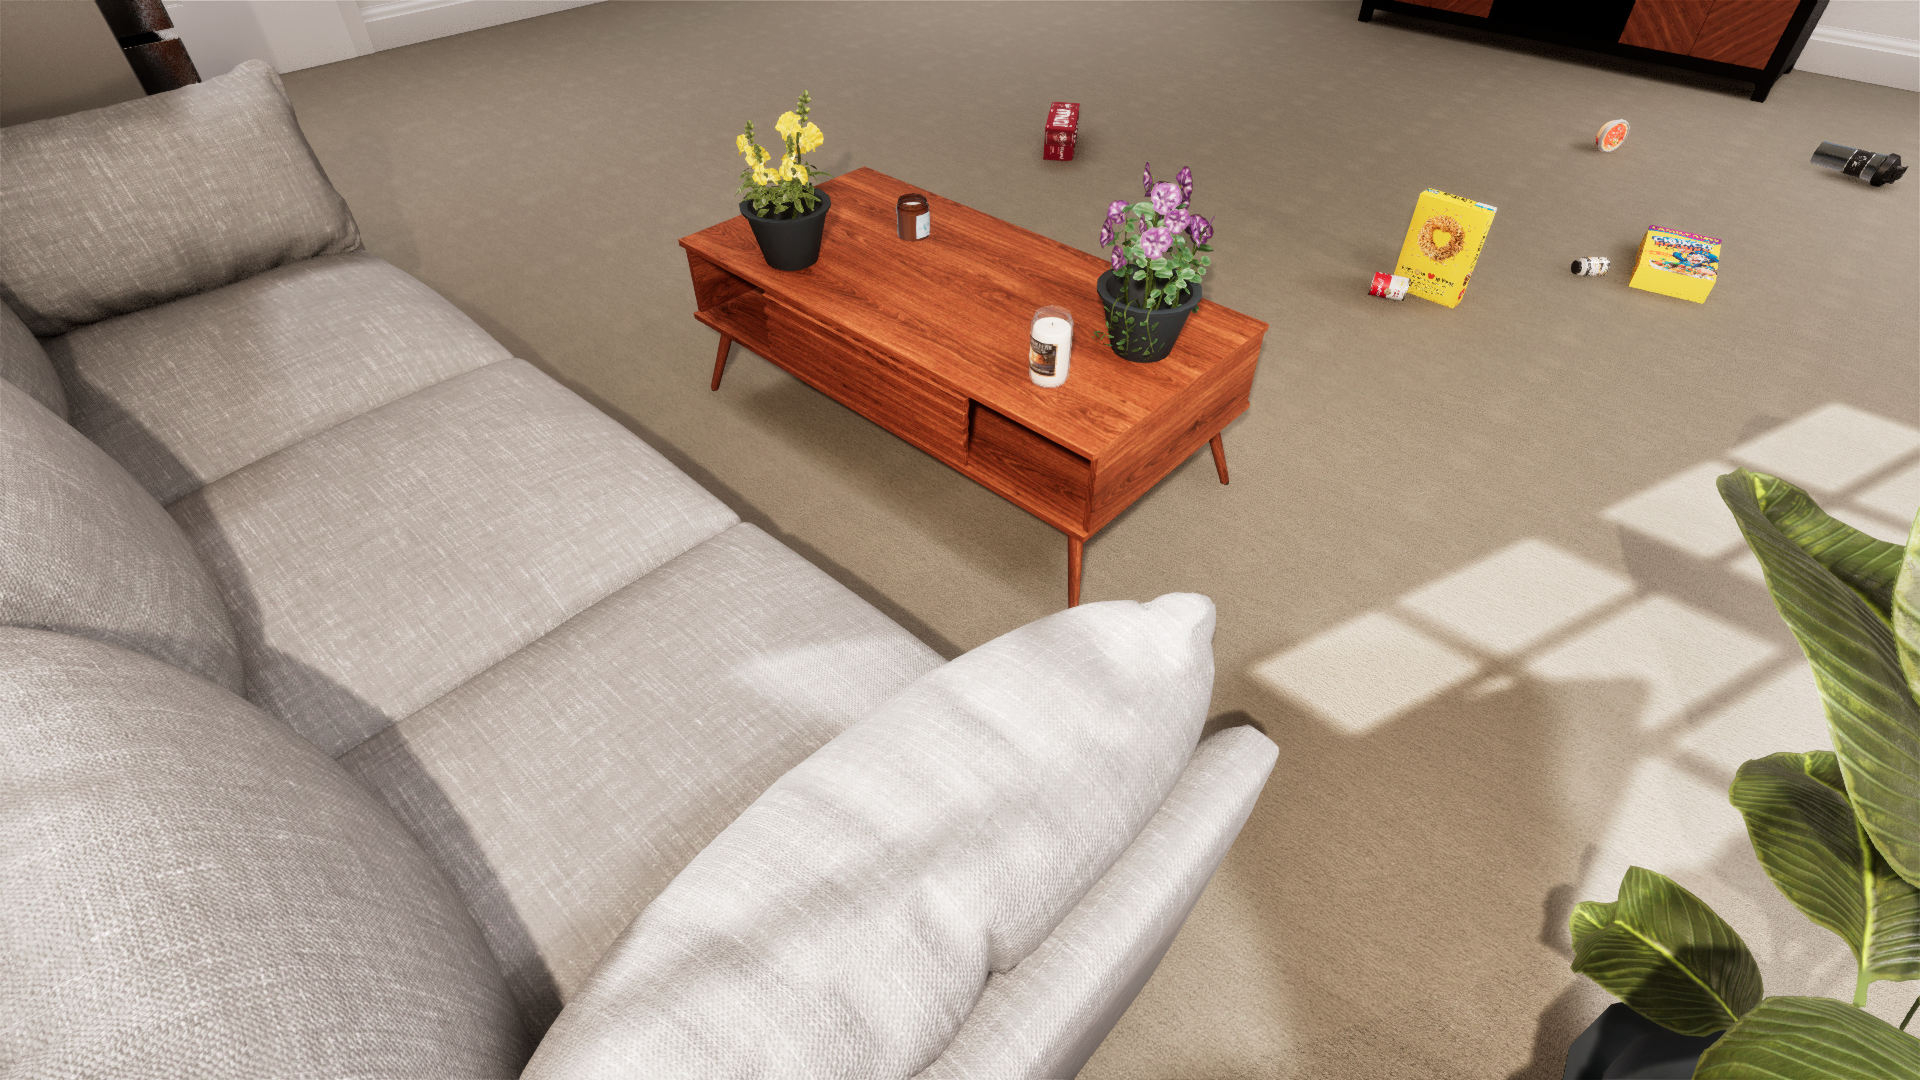cheerios: (451, 683, 562, 872)
soup: (638, 728, 692, 769)
